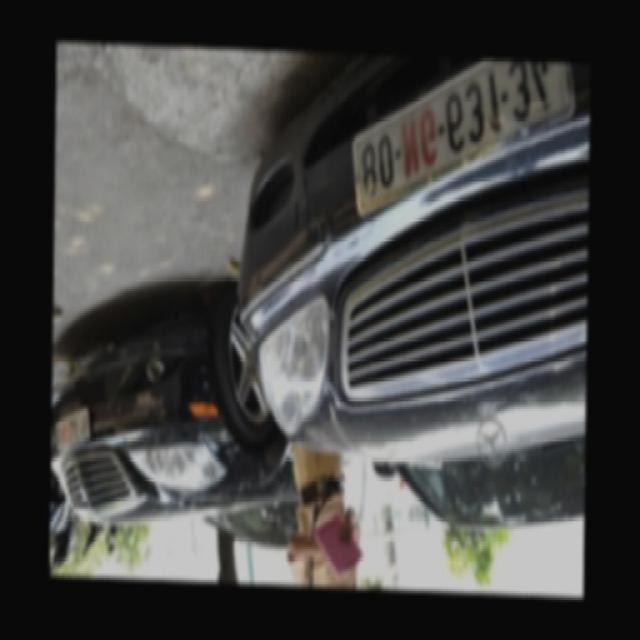bien_ngoai_giao: (344, 48, 576, 223)
